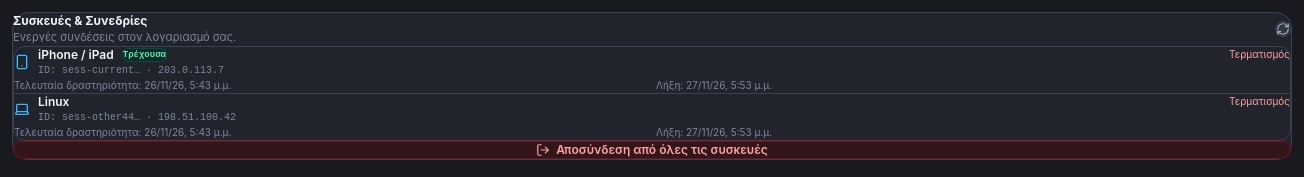
Test: MemberSessionsCard (device revocation) › revokes another device only after the member confirms
This screenshot has width=1304, height=177.
Step 1. Click the button "Τερματισμός" in the row of "Linux" → click(1260, 101), box [1229,94,1290,108]
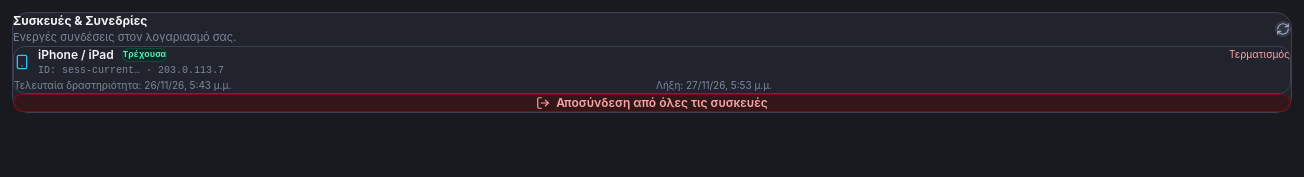
Check: the number of buttons "Τερματισμός" is 1, box [1229,46,1290,62]
